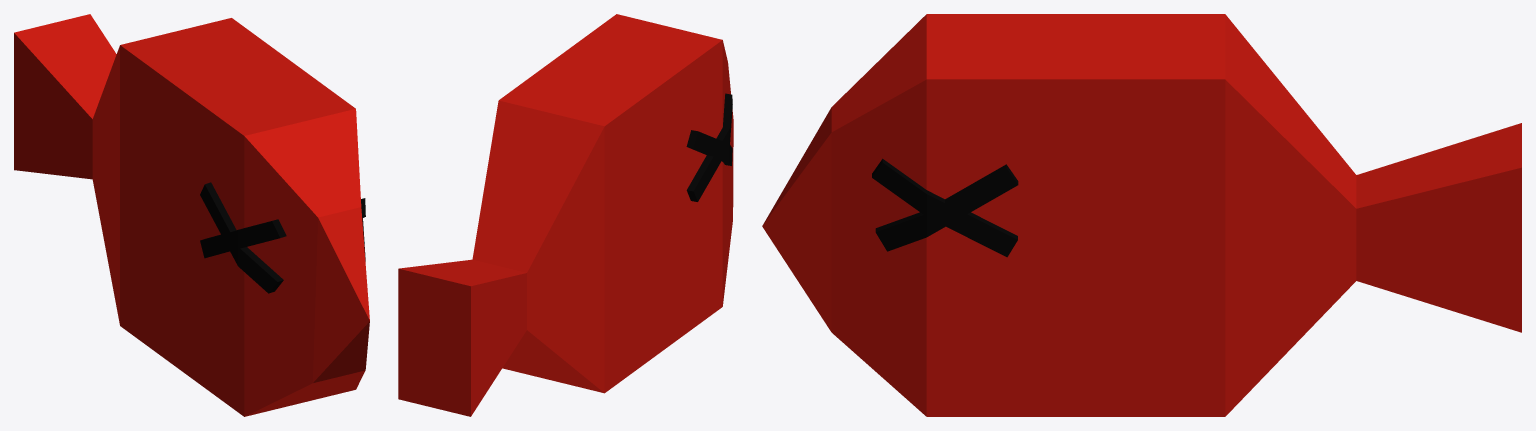
Rendered from Fish.FBX.
The picture shows the model from 3 angles, left to right: view 1: azimuth 30°, elevation 25°; view 2: azimuth 150°, elevation 25°; view 3: azimuth 270°, elevation 25°; orthographic projection. The views are drawn at different scales.
Parts seen in each view (by area): view 1: Cube; view 2: Cube; view 3: Cube.
Boxes of the visible parts, left/top/right/bottom form: Cube: left=14, top=14, right=369, bottom=416; Cube: left=398, top=14, right=733, bottom=416; Cube: left=762, top=14, right=1521, bottom=416.
Bounding box in the file's own units: 34.61 × 74.15 × 151.
